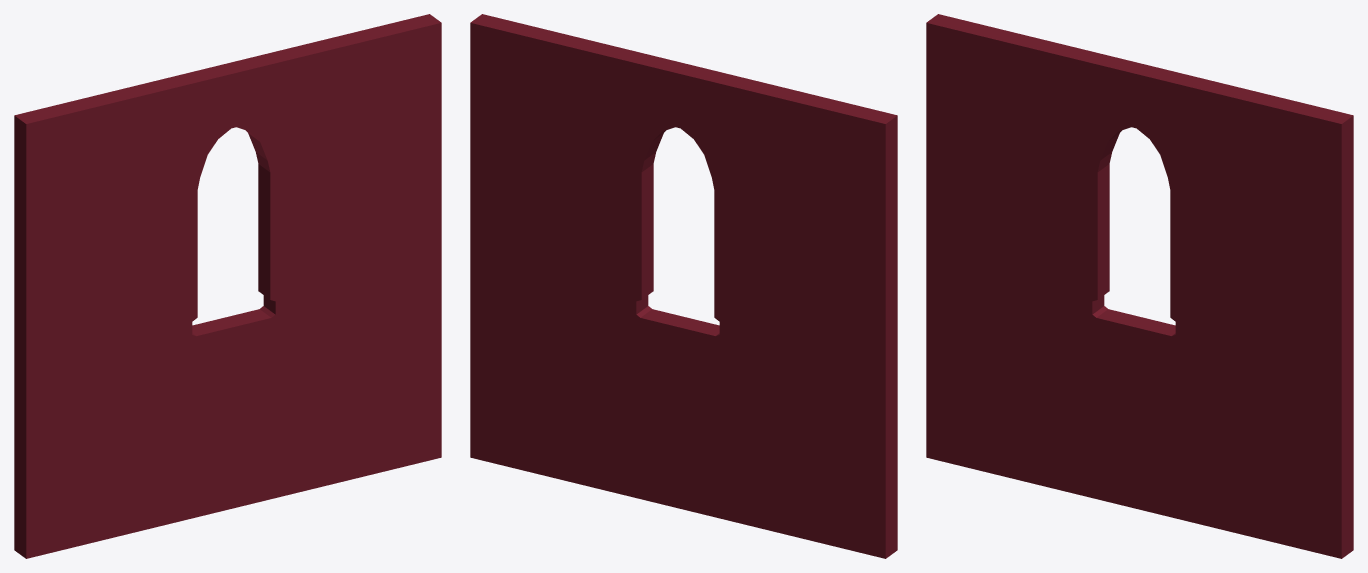
File: wall_without1Window_001_grp.fbx
The picture shows the model from 3 angles, left to right: view 1: azimuth 30°, elevation 25°; view 2: azimuth 150°, elevation 25°; view 3: azimuth 330°, elevation 25°; orthographic projection.
Visible parts, largest first — view 1: wall_without1Window_001_grp; view 2: wall_without1Window_001_grp; view 3: wall_without1Window_001_grp.
Part boxes in pixels (box(x1,y1,x2,y2)): wall_without1Window_001_grp: box(14, 14, 441, 558); wall_without1Window_001_grp: box(470, 14, 897, 558); wall_without1Window_001_grp: box(926, 14, 1353, 558).
Size of the model in its own units: 400 by 400 by 20.
